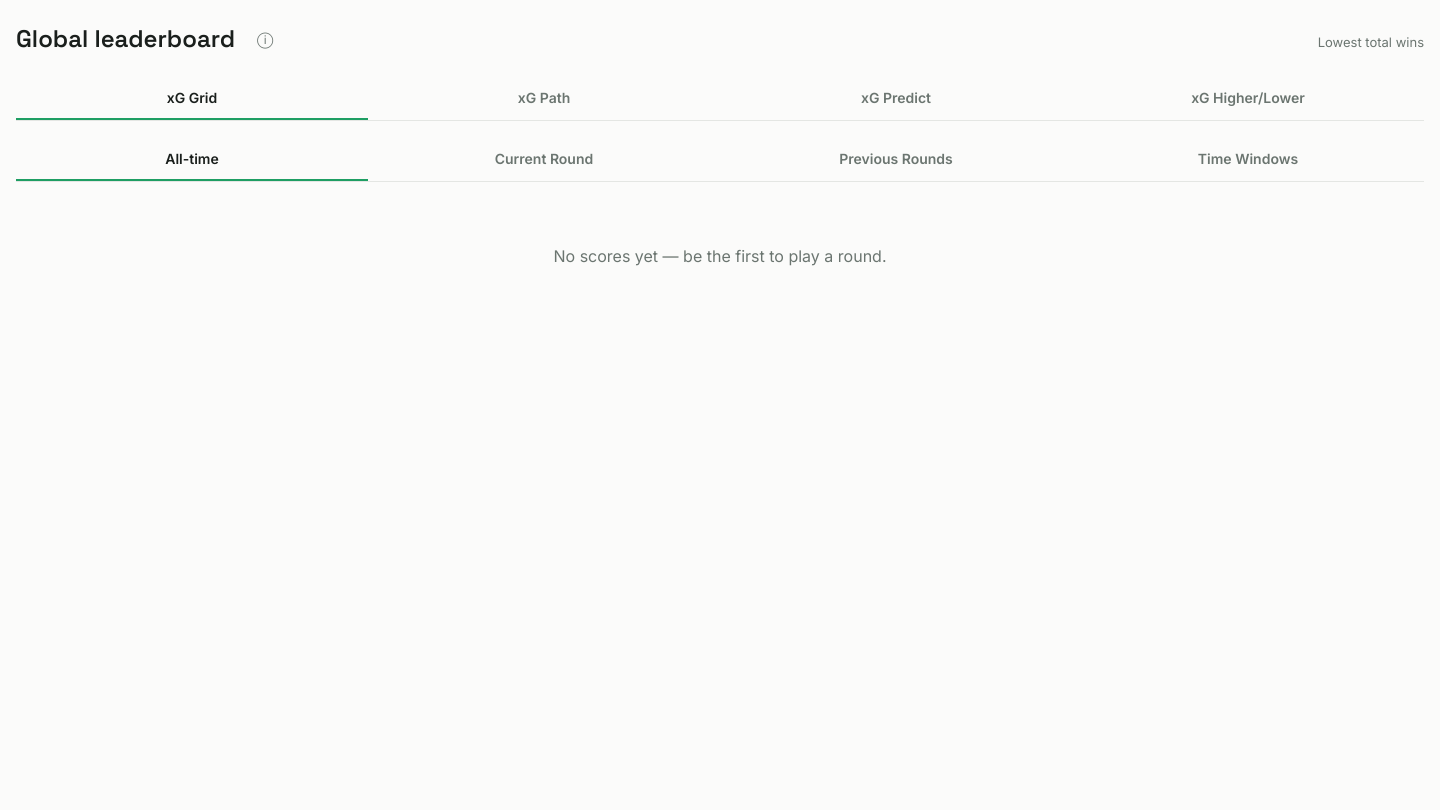
LeaderboardScreen › scoring explainer entry point › REQ-213: opens regardless of which scope tab is active — "Current Round" (a non-default scope, empty/loaded state)
This screenshot has width=1440, height=810.
Expected: the text "No scores yet — be the first to play a round." is shown, [554, 246, 886, 266]
Click the tab "Current Round".
click(544, 159)  # box [368, 137, 720, 181]
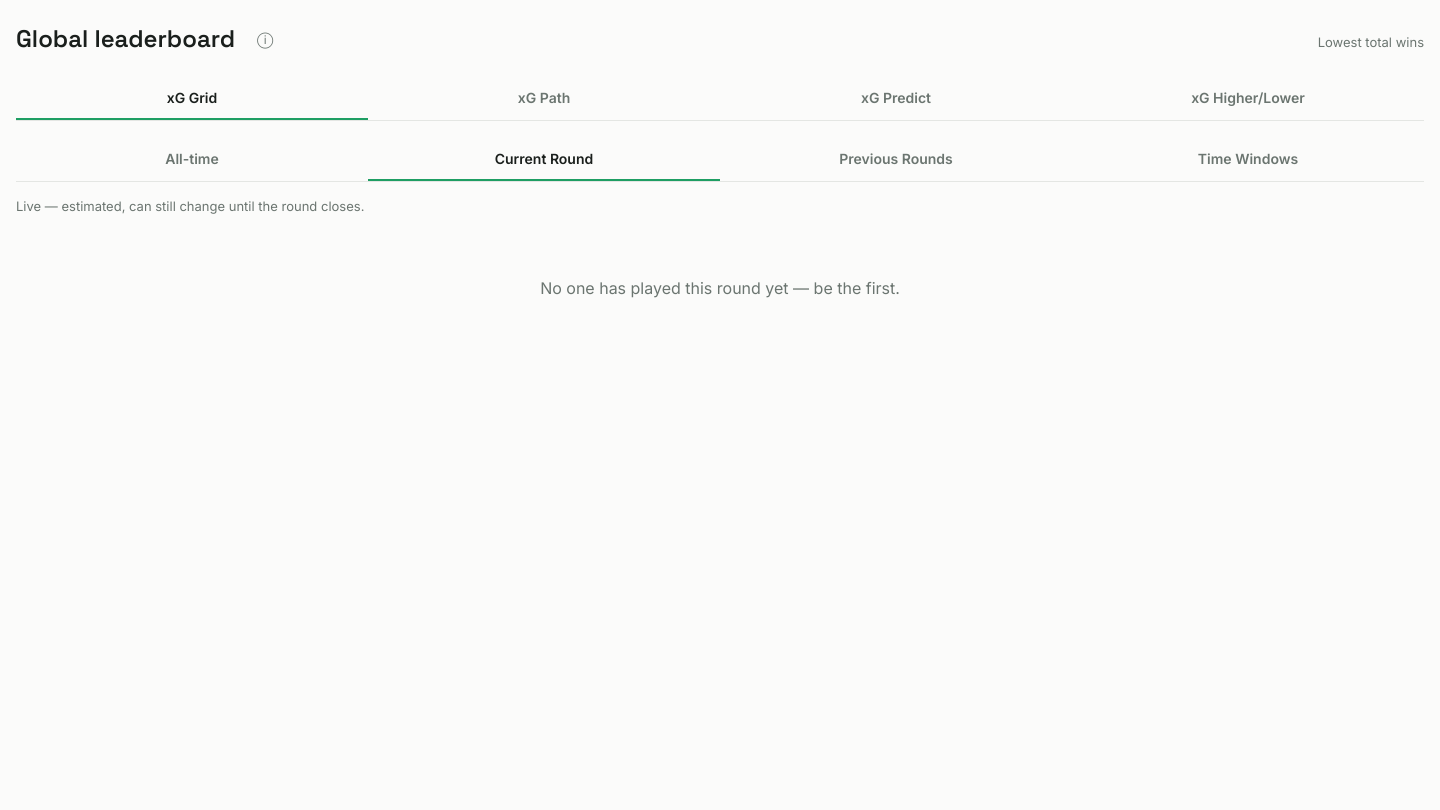
Now the text "No one has played this round yet — be the first." is shown, box [540, 278, 900, 298]
Click the button named "How scoring works".
click(265, 38)  # box [243, 16, 287, 60]
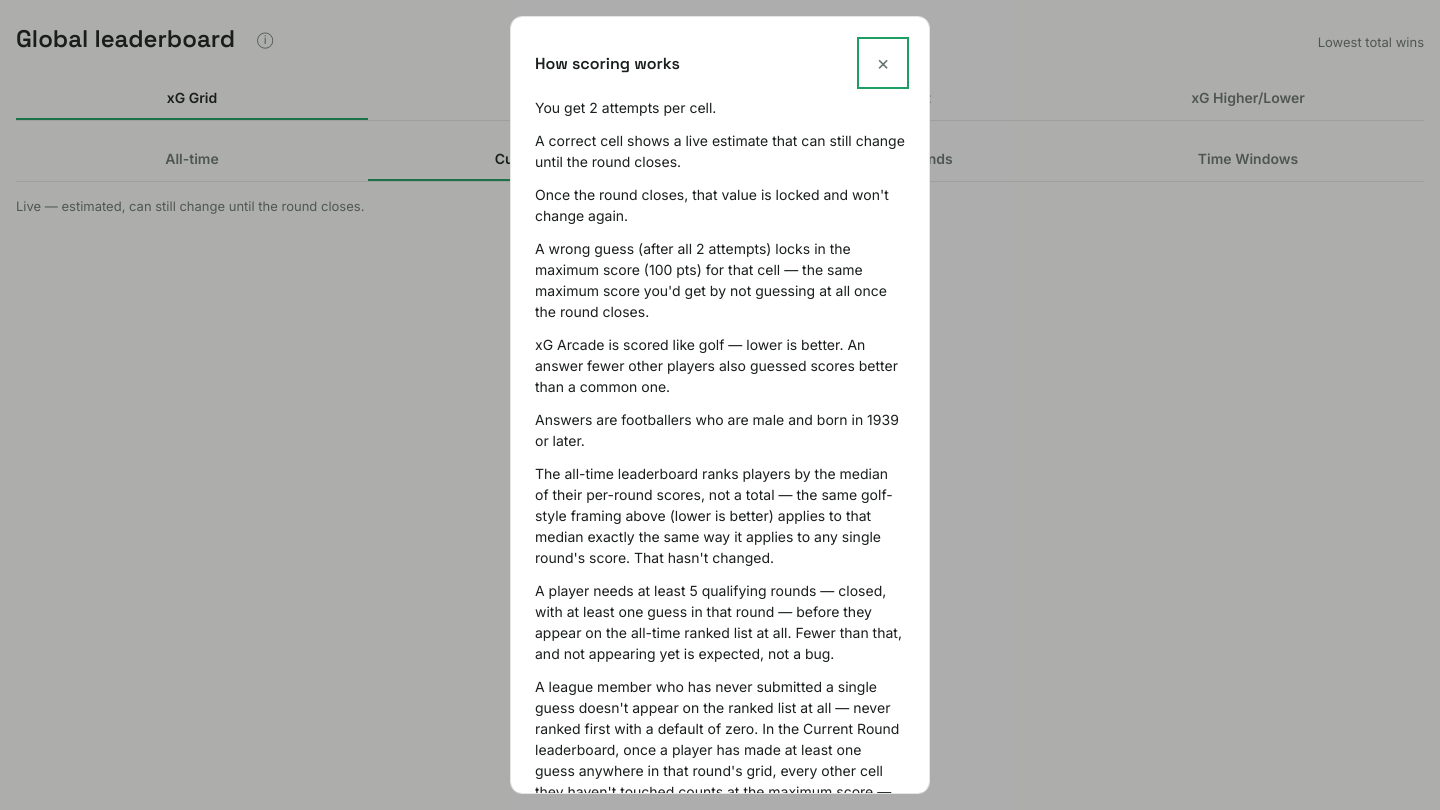
Now the dialog "How scoring works" is shown, box [510, 16, 930, 794]
